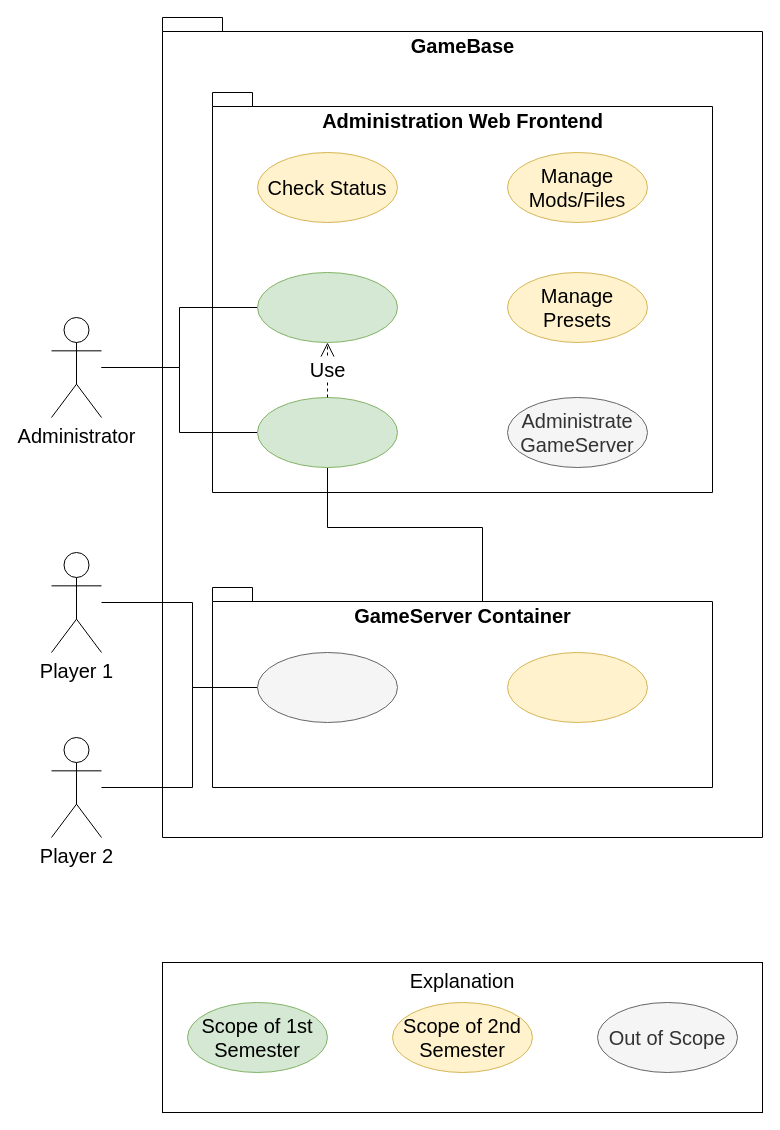
Some shapes in this 780 by 1130 pixel diagram are drawn without their labels. The centre of each missing label's shape, as x and y in pixels:
Configure Server: the point at 327,307
Connect VPN: the point at 577,687
Create GameServer: the point at 327,432
Join Server: the point at 327,687
